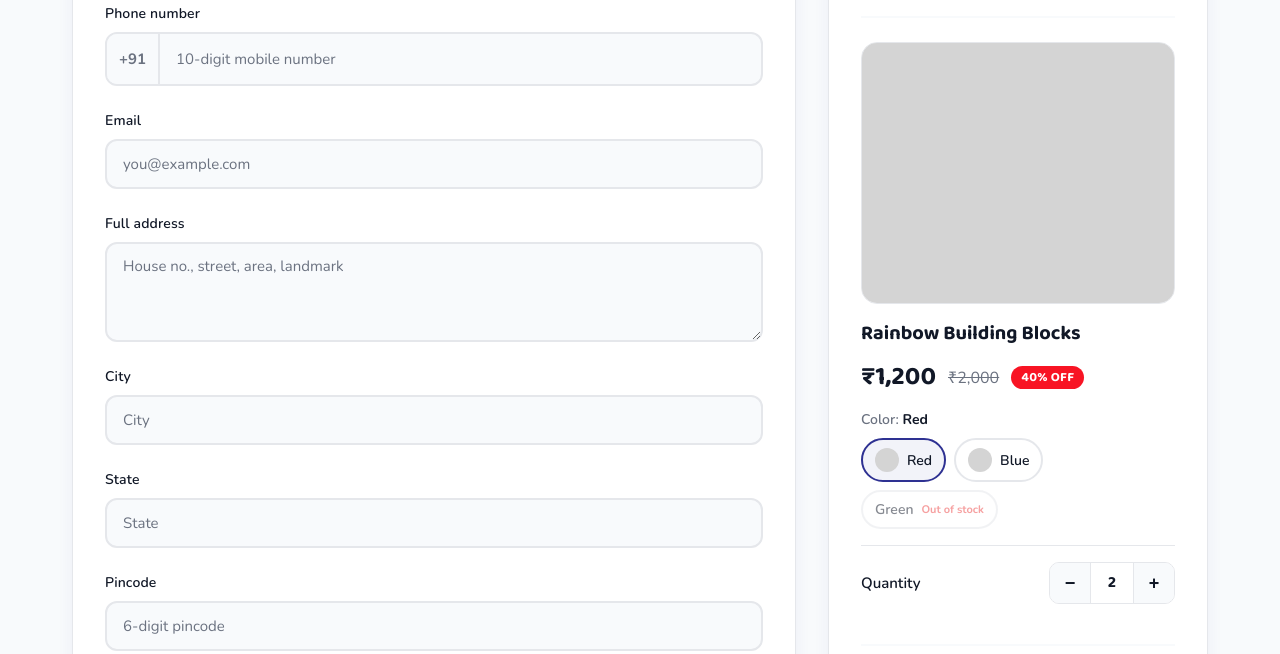
Test: CheckoutPage › renders color options, defaults to the first in-stock color, and swaps images
This screenshot has width=1280, height=654.
(page scrolled)
Expected: the heading "Rainbow Building Blocks" is shown, top-left (861, 317), bottom-right (1081, 349)
Expected: the text with test id "selected-color" reads "Red", top-left (902, 410), bottom-right (928, 429)
Choosing another color swaps the displayed images.
Click the button with test id "color-Blue": [999, 460] box top-left (954, 438), bottom-right (1043, 482)
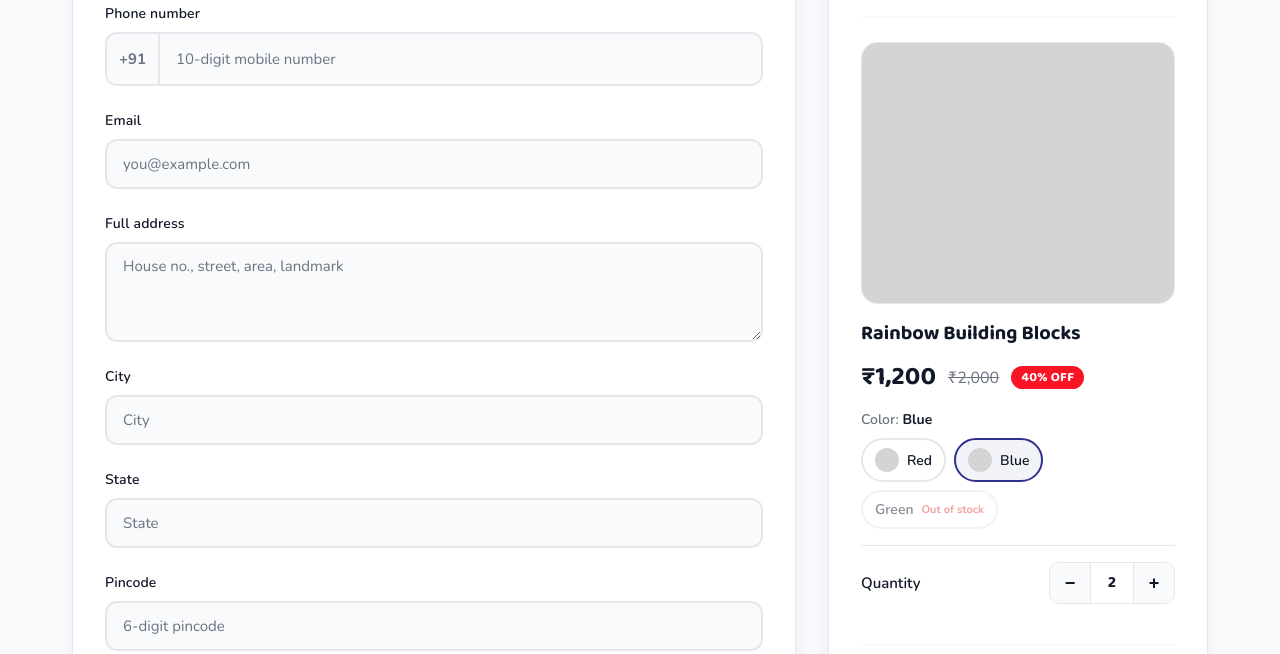
Expected: the text with test id "selected-color" reads "Blue", top-left (902, 410), bottom-right (932, 429)
